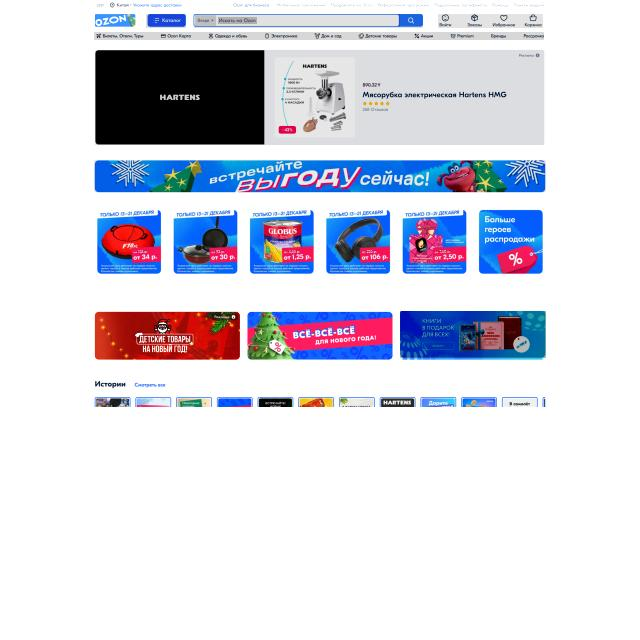CheckBox: (194, 13, 423, 28), (399, 14, 424, 27)
ImageView: (95, 50, 544, 145), (94, 160, 546, 192)
alert: (195, 15, 216, 26)
bag: (92, 0, 546, 42)
copy: (247, 311, 393, 360), (94, 312, 240, 360), (400, 312, 546, 359)
date picker: (94, 13, 137, 28)
decoration: (94, 32, 544, 40), (230, 2, 546, 10), (438, 14, 543, 28), (146, 13, 186, 28)
footer: (218, 17, 257, 24)
